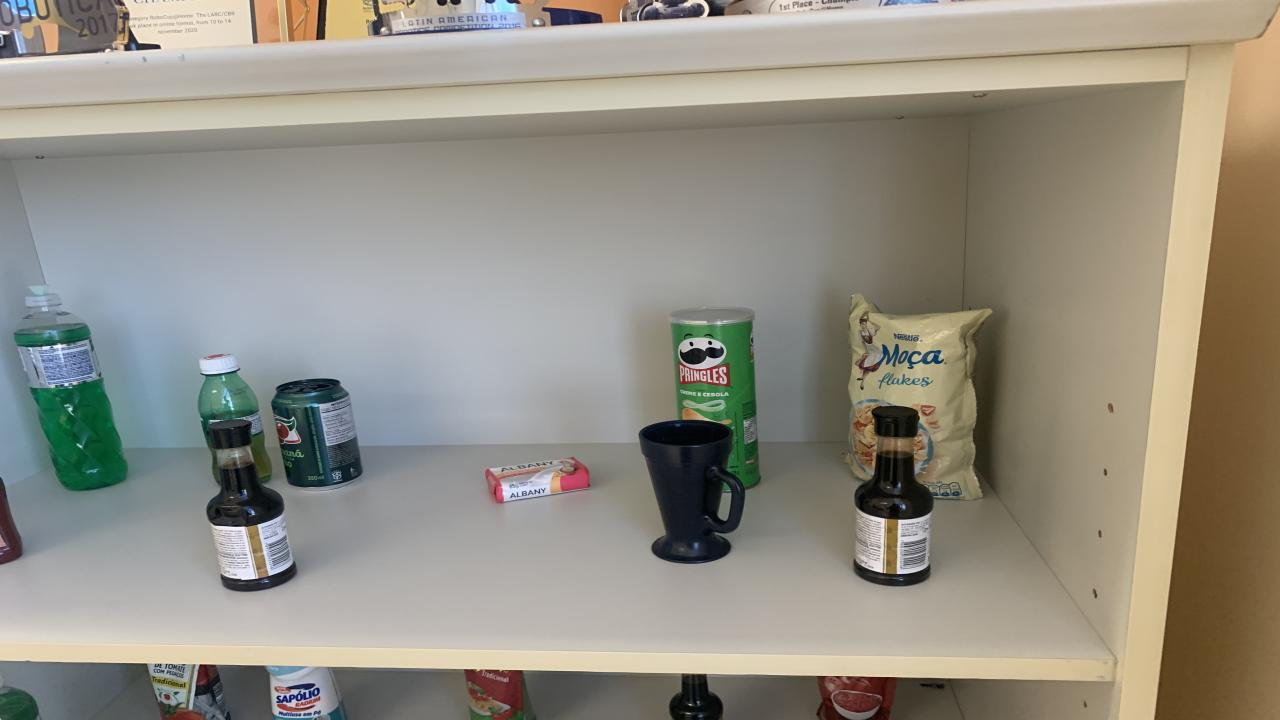Cleaner-Cleanup_Items: (265, 666, 348, 720)
Detergent-Cleanup_Items: (15, 304, 128, 489), (0, 688, 40, 720)
English_Sauce-Pantry_Items: (208, 420, 298, 591), (855, 409, 932, 587), (670, 673, 722, 720)
Flakes-Snacks: (848, 294, 992, 501)
Guarana-Drinks: (198, 354, 272, 482)
Guarana_Can-Drinks: (272, 379, 362, 489)
Pringles-Snacks: (670, 308, 760, 488)
Soap-Cleanup_Items: (485, 458, 590, 502)
Tomato_Sauce-Pantry_Items: (148, 664, 230, 720), (465, 669, 535, 720), (818, 677, 898, 720)
